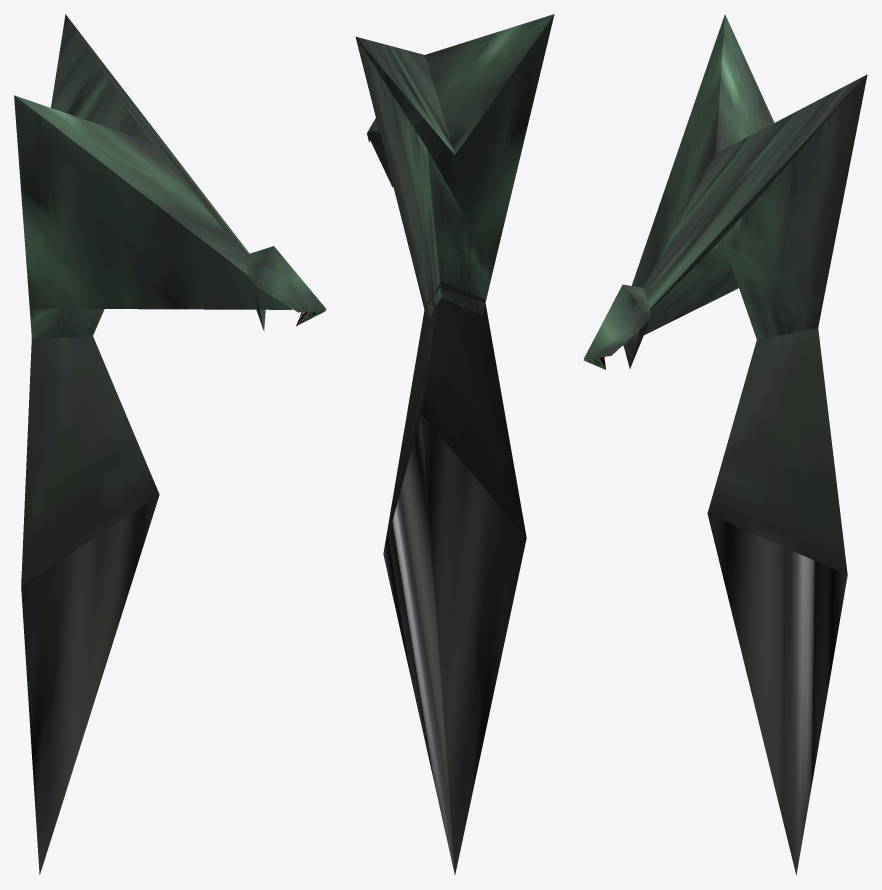
File: Statue_WasserspeierSchräg_131.glb
3 renders of one model, left to right at view 1: azimuth 30°, elevation 25°; view 2: azimuth 150°, elevation 25°; view 3: azimuth 270°, elevation 25°, orthographic. The views are drawn at different scales.
Parts seen in each view (by area): view 1: pSphereShape3, pCylinderShape6, pSphereShape4; view 2: pCylinderShape6, pSphereShape3, pSphereShape4; view 3: pCylinderShape6, pSphereShape3, pSphereShape4.
Part boxes in pixels (bbox=[...]): pSphereShape3: bbox=[14, 14, 292, 338]; pCylinderShape6: bbox=[21, 336, 159, 874]; pSphereShape4: bbox=[246, 246, 326, 331]; pCylinderShape6: bbox=[383, 281, 526, 874]; pSphereShape3: bbox=[355, 14, 554, 321]; pSphereShape4: bbox=[367, 118, 393, 187]; pCylinderShape6: bbox=[707, 328, 847, 875]; pSphereShape3: bbox=[622, 14, 867, 345]; pSphereShape4: bbox=[584, 284, 649, 368].
Size of the model in its own units: 0.1819 by 0.5875 by 0.1819.
Materials: 4 (4 with a texture image).
